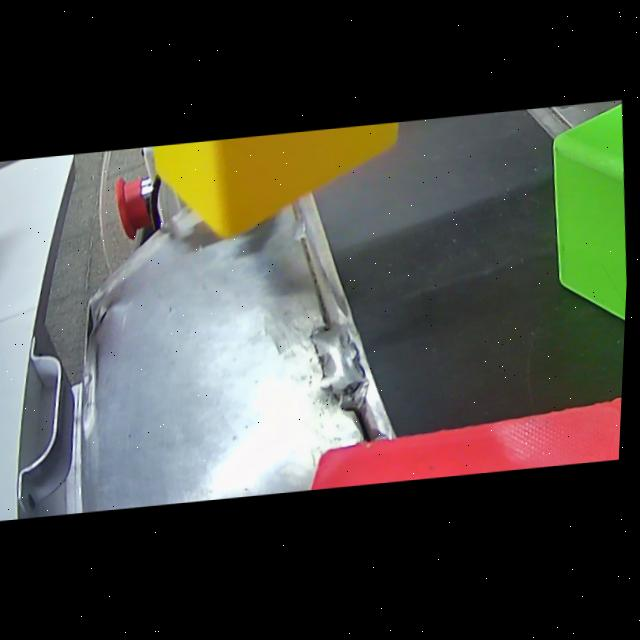greenBox: (537, 103, 636, 407)
redBox: (306, 392, 626, 491)
yellowBox: (129, 121, 446, 257)
